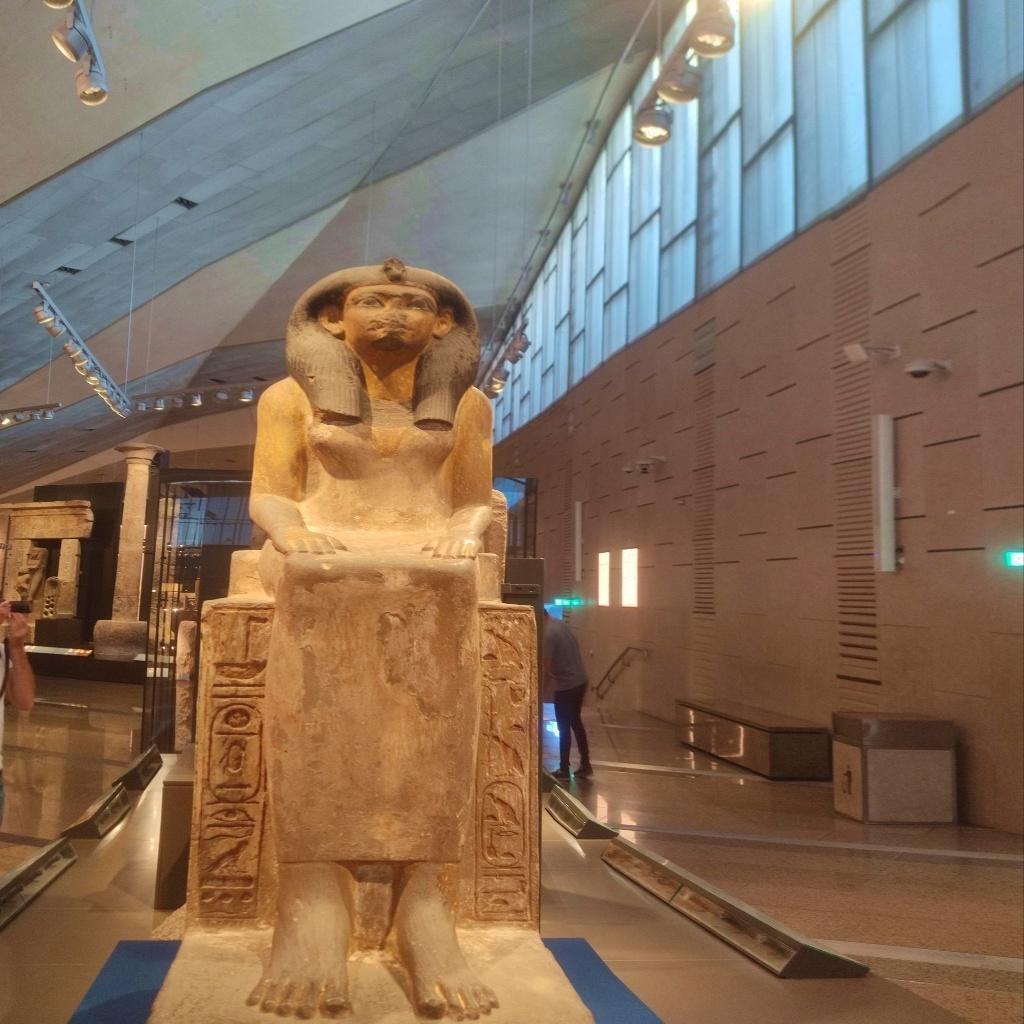Statue of Queen Metnoforet: (234, 254, 519, 1018)
